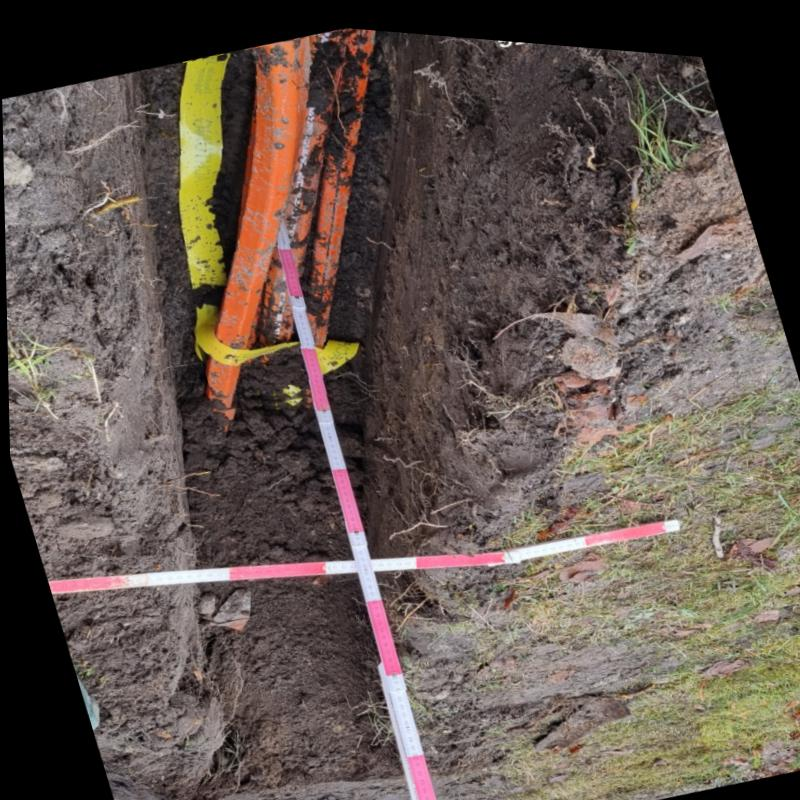Orang-Speednetrohrchen: (200, 23, 380, 409)
